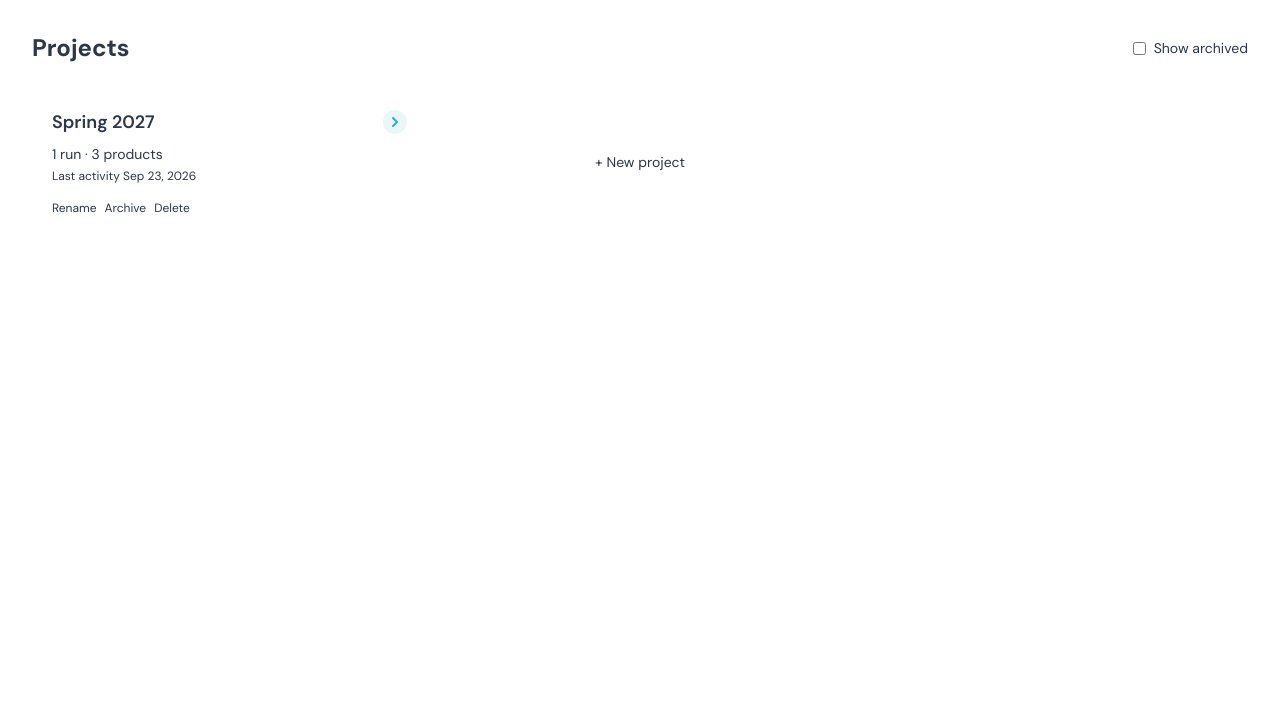
it: ProjectsGrid › deletes a project with the chosen disposition; a 409 names the execution in progress (AC 3)
The image size is (1280, 720).
What coordinates should you click on to do the following:
click the button with aria-label "Delete Spring 2027"
I would click on:
 (172, 208)
Its box is [154, 200, 190, 216].
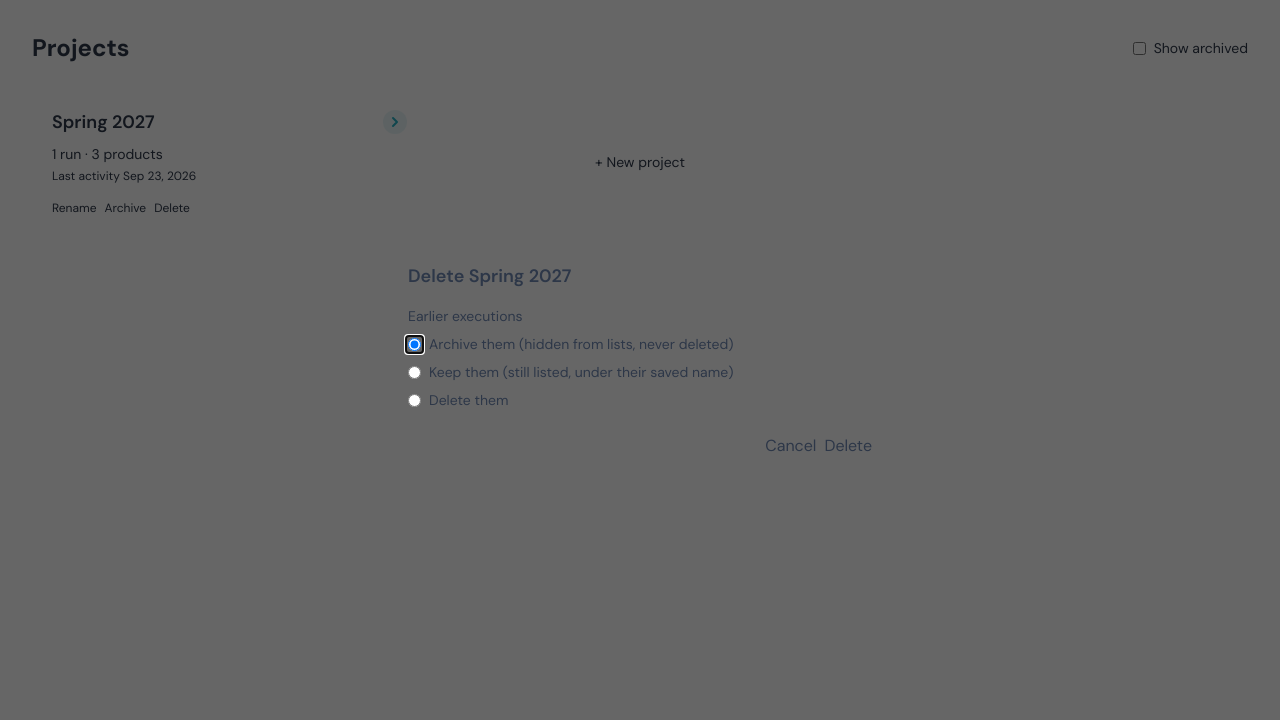
What coordinates should you click on to do the following:
click the radio button labelled "Keep them (still listed, under their saved name)"
I would click on:
 (414, 372)
Its box is [408, 366, 421, 378].
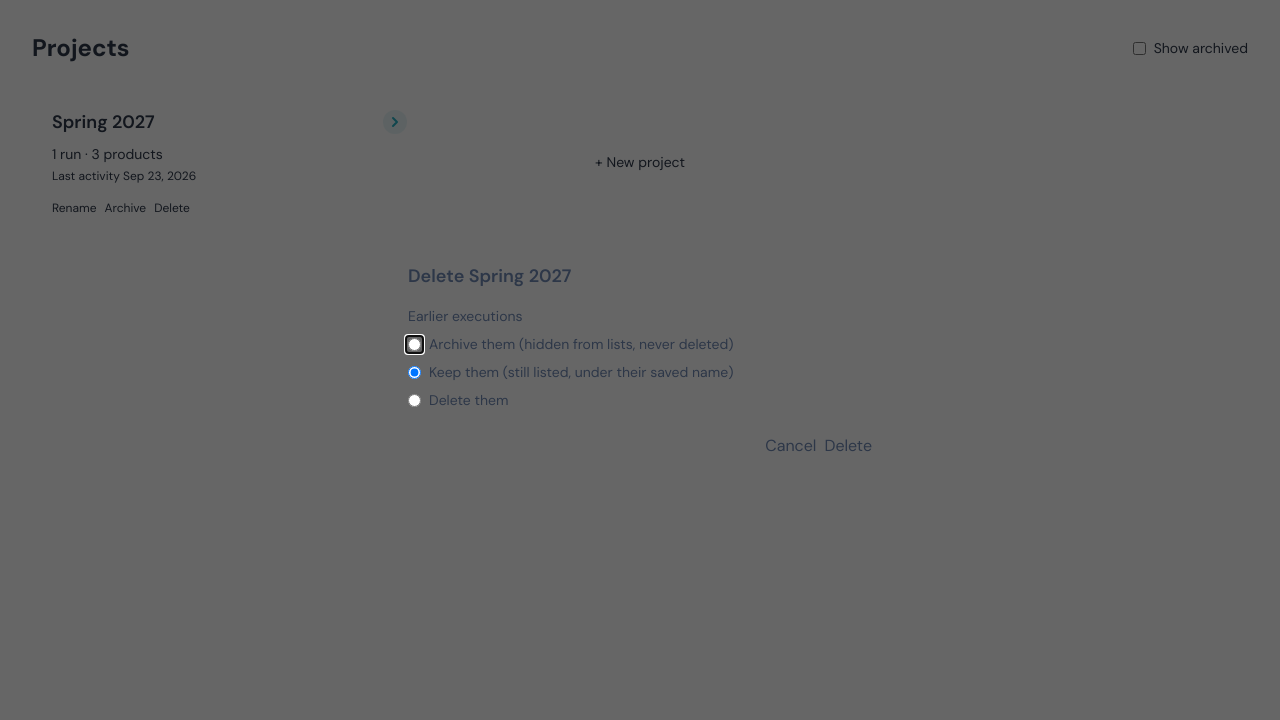
What coordinates should you click on to do the following:
click the button "Delete"
I would click on:
 (848, 446)
Its box is [824, 434, 872, 458].
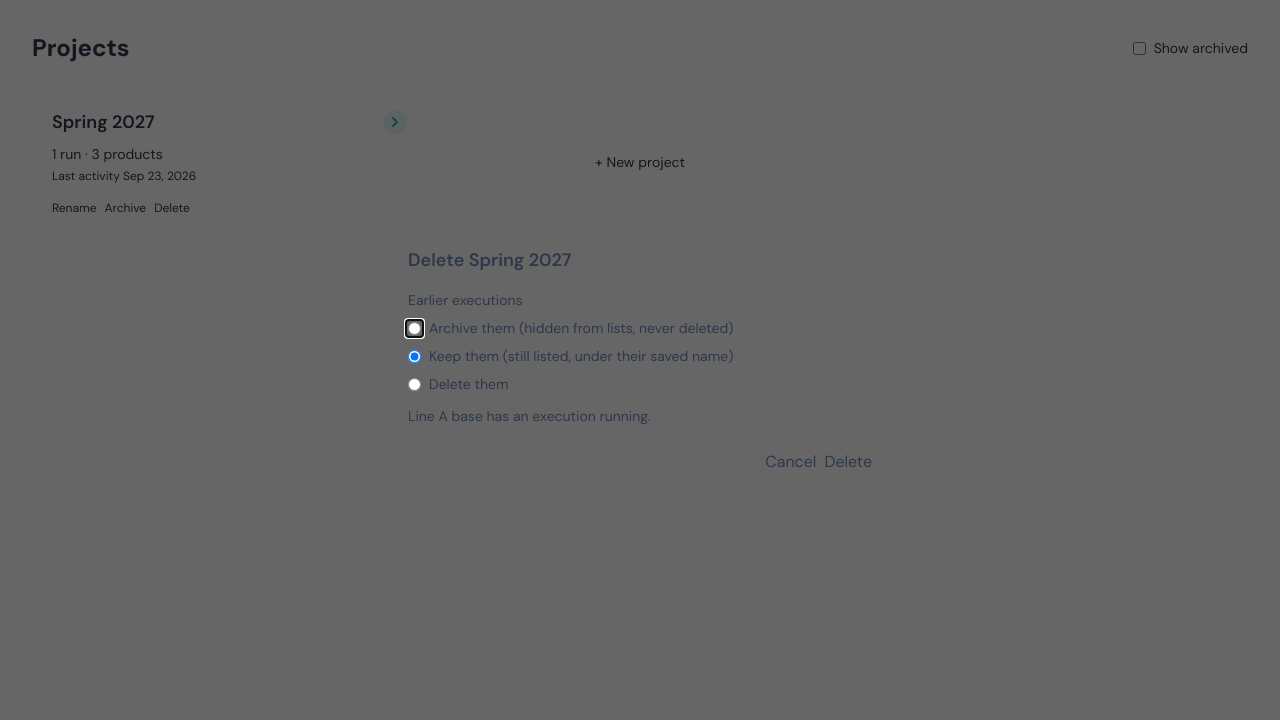
Now the message reads "Line A base has an execution running.", box [408, 407, 651, 425]
What coordinates should you click on to do the following:
click the button "Delete"
I would click on:
 (848, 462)
Its box is [824, 450, 872, 474].
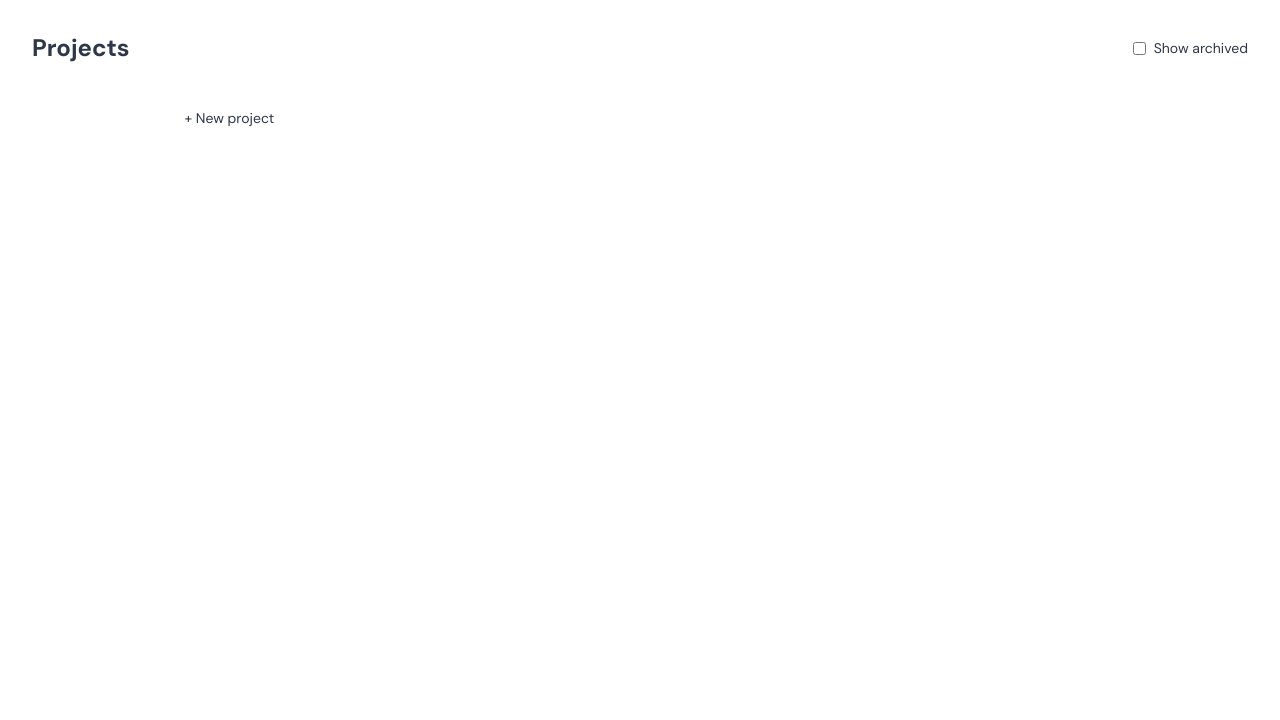
Now the link "Spring 2027" is gone
